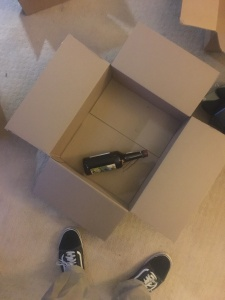innerbox: (78, 79, 166, 201)
outerbox: (10, 32, 217, 239)
product: (83, 145, 152, 177)
